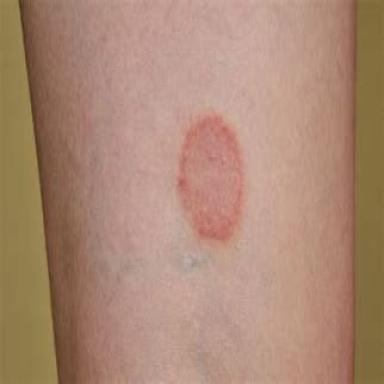Tinea-Corporis: (178, 116, 242, 238)
